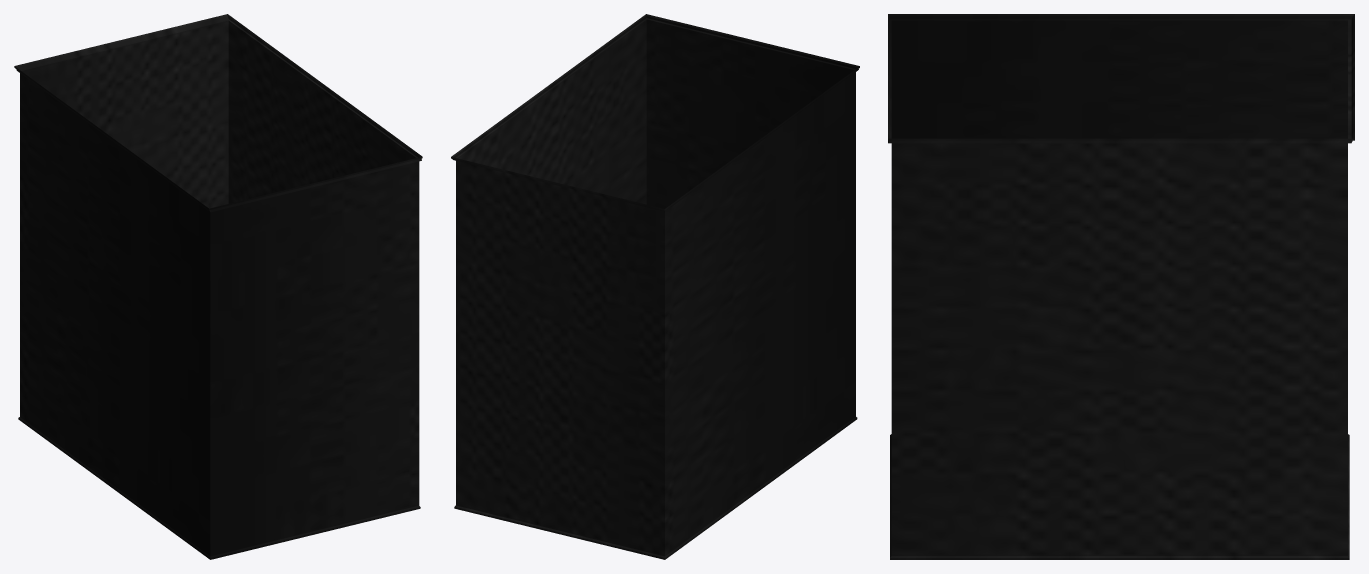
The model's file is luzprisma.fbx.
3 views of the same model, side by side, from view 1: azimuth 30°, elevation 25°; view 2: azimuth 150°, elevation 25°; view 3: azimuth 270°, elevation 25° (orthographic). The views are drawn at different scales.
Visible parts, largest first — view 1: Cube; view 2: Cube; view 3: Cube.
Part boxes in pixels (<box>): Cube: <box>14,14,422,559</box>; Cube: <box>451,14,859,559</box>; Cube: <box>888,14,1354,559</box>.
Size of the model in its own units: 129 by 204 by 204.
